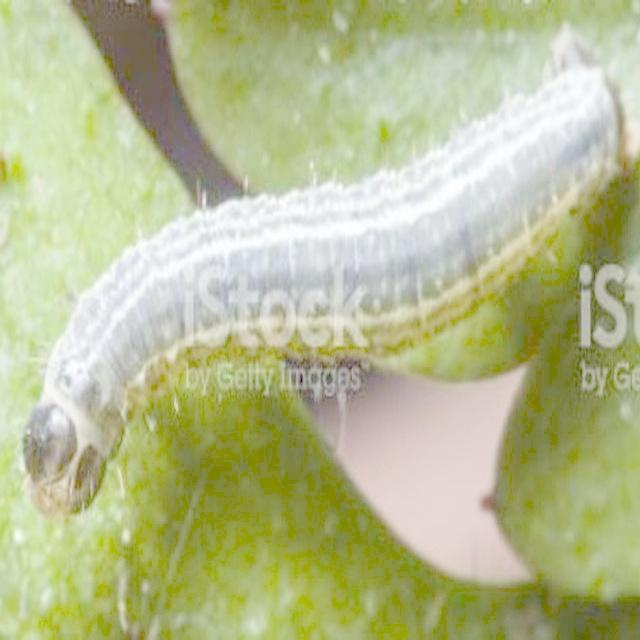gusano_cogollero: (20, 30, 640, 529)
